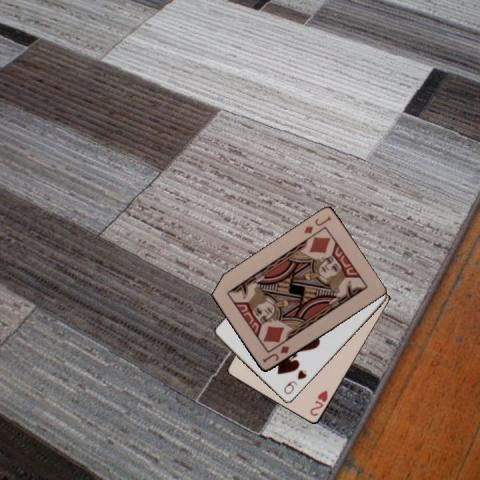2h: (307, 387, 329, 418)
9s: (281, 367, 308, 396)
Jd: (259, 343, 291, 365), (300, 214, 332, 236)
